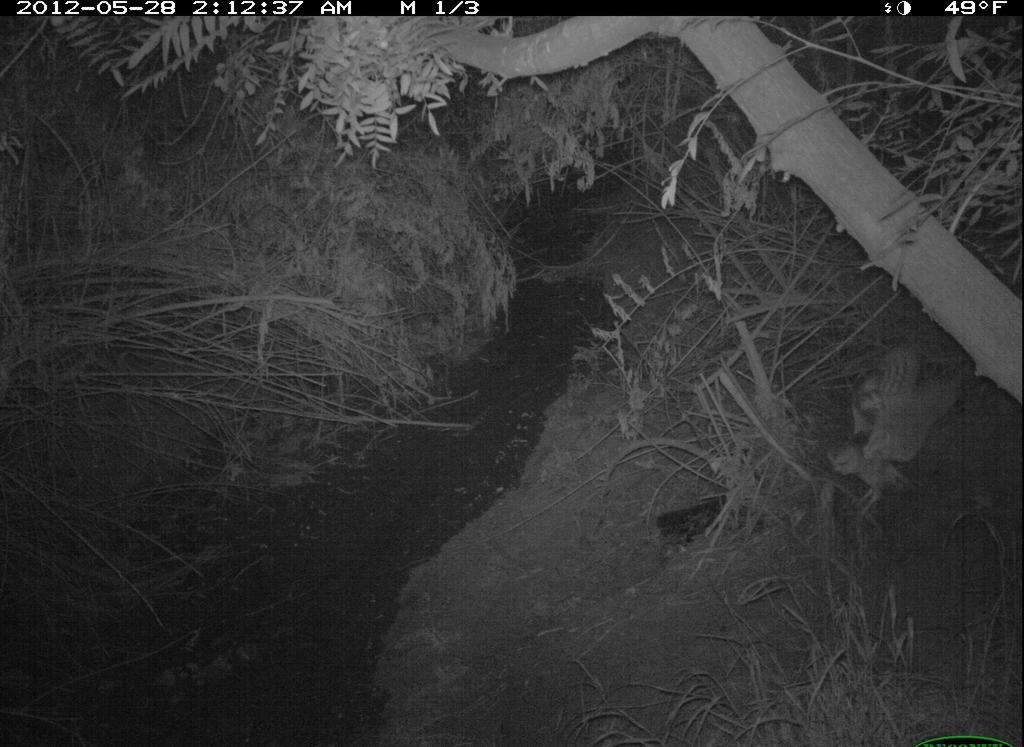bird: (811, 345, 977, 530)
